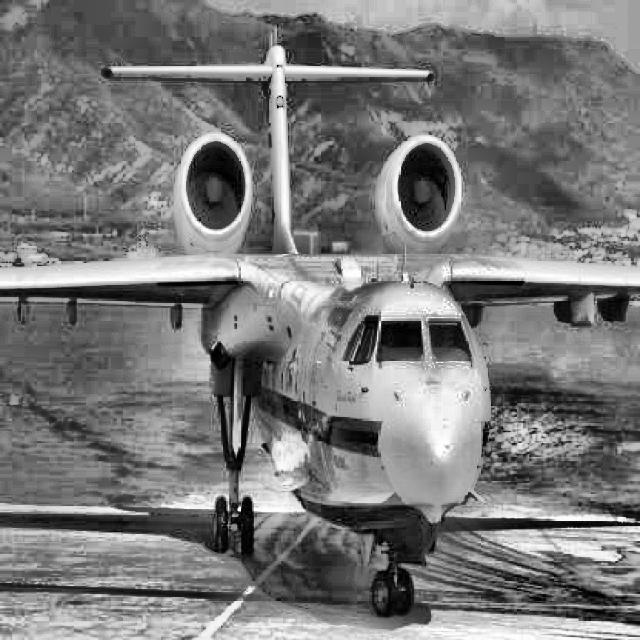Be200: (0, 25, 640, 618)
